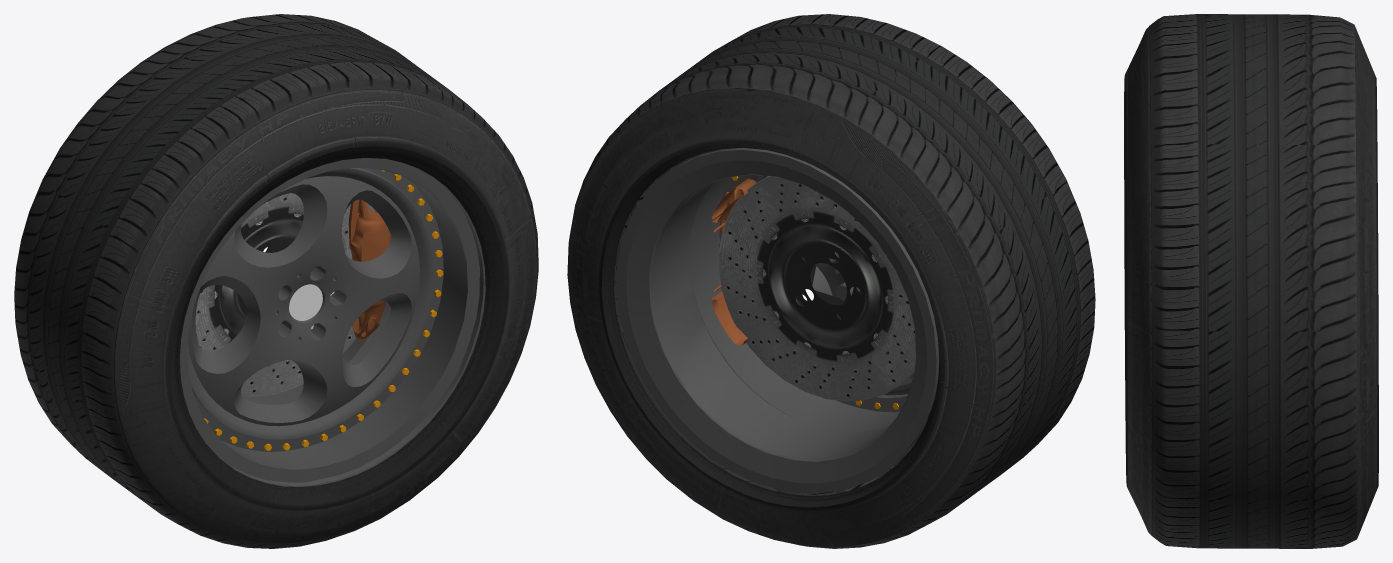
File: Tyre_Type_8.fbx
3 renders of one model, left to right at view 1: azimuth 30°, elevation 25°; view 2: azimuth 150°, elevation 25°; view 3: azimuth 270°, elevation 25°, orthographic. The views are drawn at different scales.
Parts seen in each view (by area): view 1: Rubber, Rim8, Rim, Disc, Caliper, Outer Screws; view 2: Rubber, Rim, Disc, Rim8, Caliper; view 3: Rubber.
Part boxes in pixels (left/top/right/bottom): Rubber: left=14, top=14, right=538, bottom=548; Rim8: left=187, top=168, right=443, bottom=451; Rim: left=180, top=158, right=485, bottom=486; Disc: left=195, top=193, right=374, bottom=397; Caliper: left=349, top=199, right=390, bottom=339; Outer Screws: left=204, top=170, right=443, bottom=450; Rubber: left=567, top=14, right=1095, bottom=548; Rim: left=617, top=148, right=939, bottom=493; Disc: left=719, top=176, right=915, bottom=401; Rim8: left=719, top=175, right=913, bottom=412; Caliper: left=711, top=178, right=756, bottom=345; Rubber: left=1124, top=14, right=1378, bottom=548.
Bounding box in the file's own units: 55.47 × 55.36 × 26.42.
